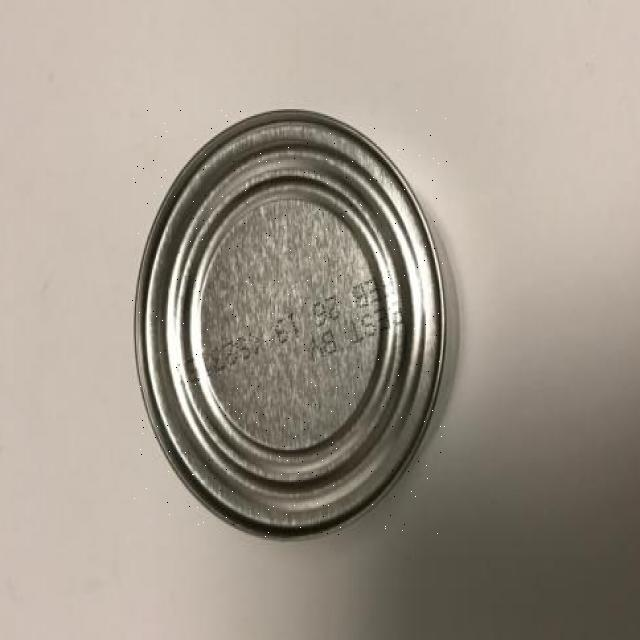metal: (132, 109, 447, 538)
